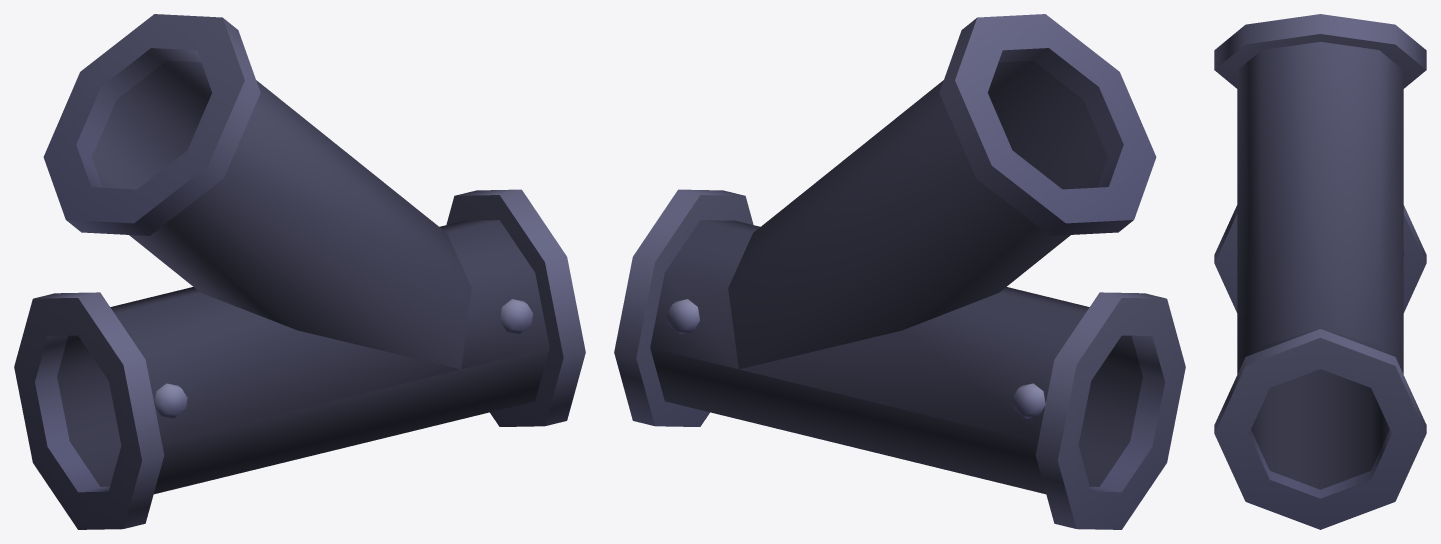
File: pipe-large-junction.glb
3 views of the same model, side by side, from view 1: azimuth 30°, elevation 25°; view 2: azimuth 150°, elevation 25°; view 3: azimuth 270°, elevation 25° (orthographic). The views are drawn at different scales.
Parts seen in each view (by area): view 1: pipe-large-junction; view 2: pipe-large-junction; view 3: pipe-large-junction.
Boxes of the visible parts, box(x1,y1,x2,y2) form: pipe-large-junction: box(14, 14, 585, 529); pipe-large-junction: box(614, 14, 1185, 529); pipe-large-junction: box(1214, 14, 1426, 529).
Size of the model in its own units: 2.06 by 2.06 by 1.
